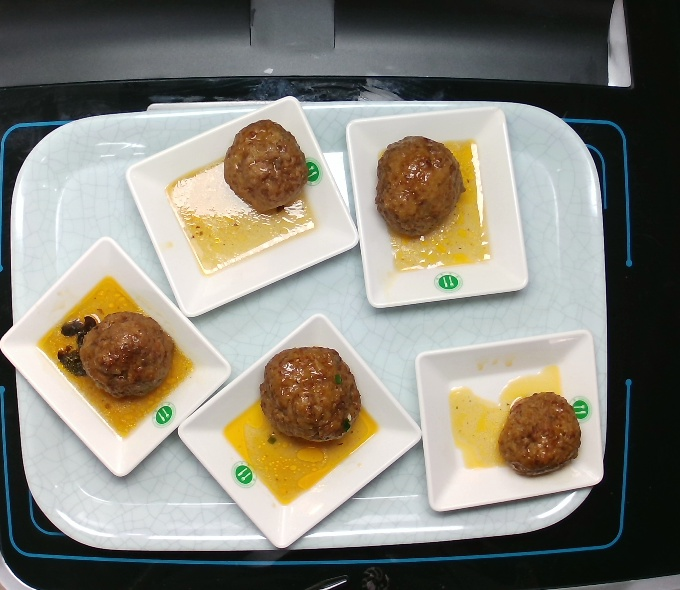wcq-ShiZiTou: (56, 289, 176, 412), (258, 336, 371, 456), (212, 117, 333, 214), (369, 127, 474, 235), (490, 374, 586, 482)
